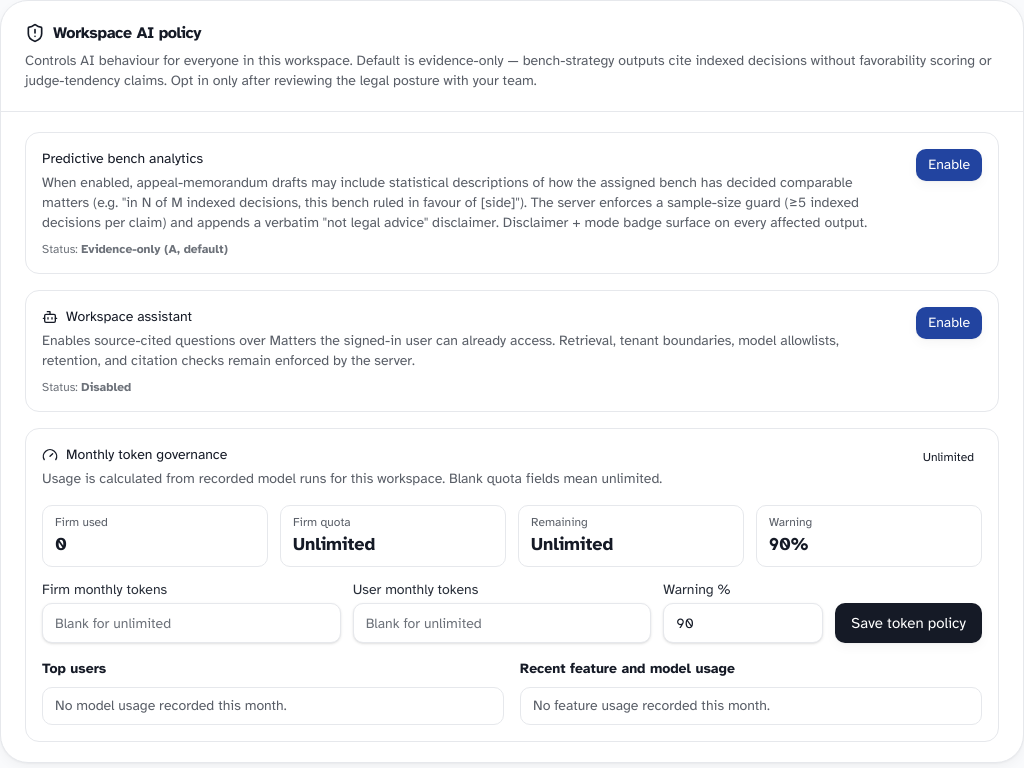
TenantAIPolicyCard (PG-107 v1.5) › lets an admin enable the workspace assistant with optimistic concurrency
Click the button with test id "tenant-ai-policy-assistant-toggle": point(949, 323) top-left (916, 307), bottom-right (982, 339)
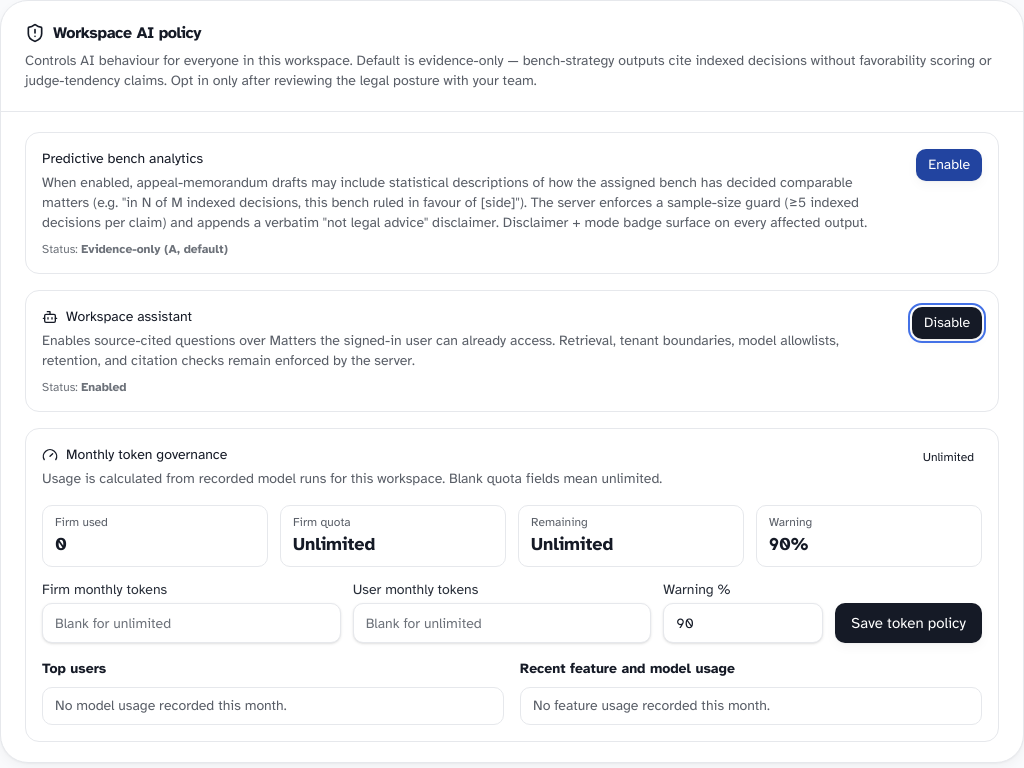
Result: the text "Enabled" is shown at top-left (81, 380), bottom-right (126, 394)
